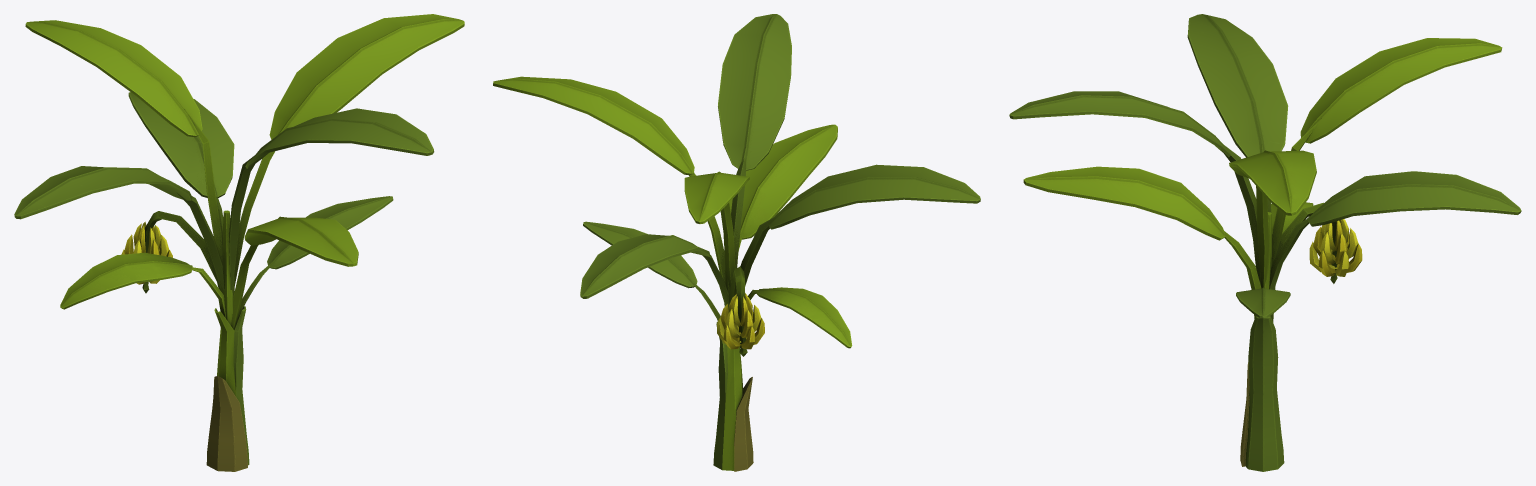
The model's file is tree-banana-GB.fbx.
3 renders of one model, left to right at view 1: azimuth 30°, elevation 25°; view 2: azimuth 150°, elevation 25°; view 3: azimuth 270°, elevation 25°, orthographic. The views are drawn at different scales.
Visible parts, largest first — view 1: BananaTree_mesh; view 2: BananaTree_mesh; view 3: BananaTree_mesh.
Part boxes in pixels (x1=…): BananaTree_mesh: x1=14, y1=14, x2=464, y2=471; BananaTree_mesh: x1=493, y1=14, x2=980, y2=471; BananaTree_mesh: x1=1009, y1=14, x2=1521, y2=471.
Bounding box in the file's own units: 671 × 511 × 601.
Materials: 1 (1 with a texture image).
